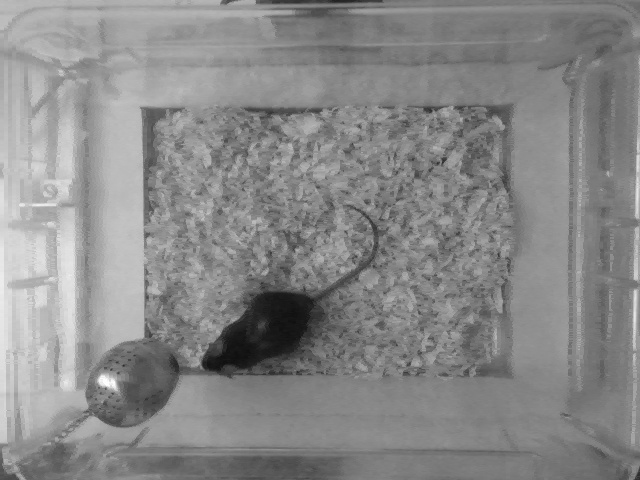mice: (198, 203, 380, 376)
